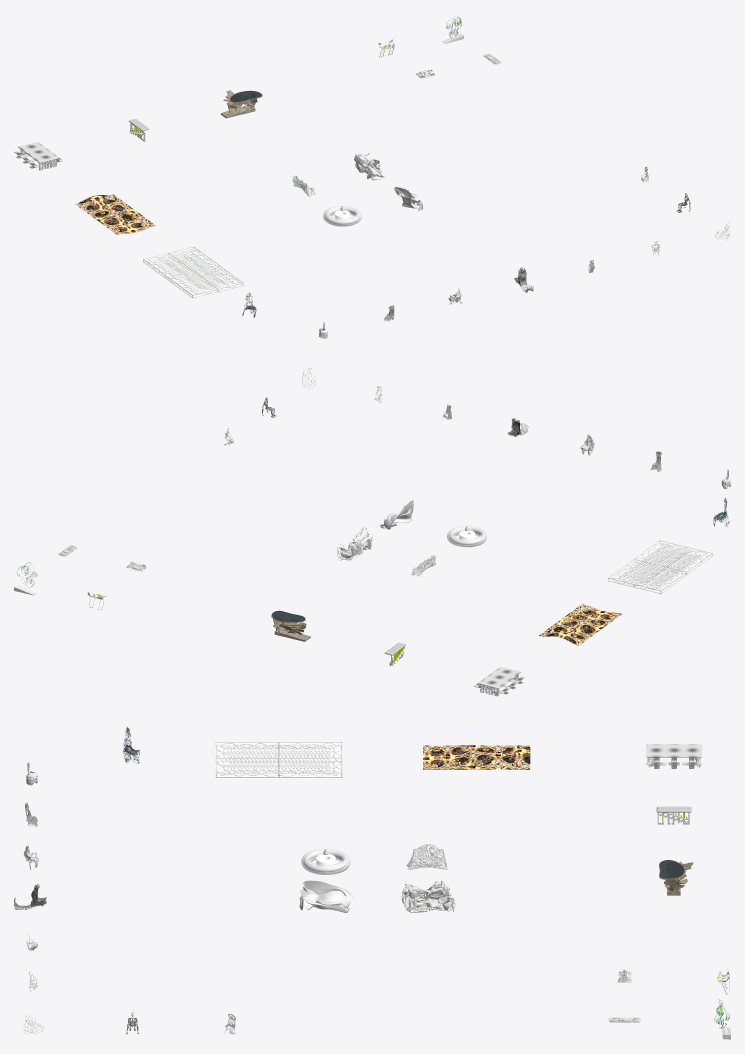
3 renders of one model, top to bottom at view 1: azimuth 30°, elevation 25°; view 2: azimuth 150°, elevation 25°; view 3: azimuth 270°, elevation 25°, orthographic. The views are drawn at different scales.
Parts seen in each view (by area): view 1: 4.003, spooky-throne-carpet, BoardROOMTABLE- WHT, Mesh_3.002, Cone.002, Merged Objects 2.003; view 2: 4.003, spooky-throne-carpet, BoardROOMTABLE- WHT, Mesh_3.002, Cone.002, Merged Objects 2.003; view 3: 4.003, spooky-throne-carpet, Merged Objects.008, Merged Objects 2.003, BoardROOMTABLE- WHT, Cone.002, Mesh_3.002, Mesh_2.007, Box.003.
Part boxes in pixels (box(x1,y1,x2,y2)): 4.003: box(143, 246, 243, 298); spooky-throne-carpet: box(75, 194, 155, 234); BoardROOMTABLE- WHT: box(14, 142, 63, 170); Mesh_3.002: box(221, 90, 262, 118); Cone.002: box(323, 206, 361, 226); Merged Objects 2.003: box(354, 153, 384, 180); 4.003: box(608, 540, 712, 593); spooky-throne-carpet: box(539, 604, 622, 645); BoardROOMTABLE- WHT: box(474, 666, 525, 696); Mesh_3.002: box(271, 610, 310, 641); Cone.002: box(447, 525, 486, 547); Merged Objects 2.003: box(337, 526, 372, 560); 4.003: box(215, 741, 342, 777); spooky-throne-carpet: box(423, 745, 530, 769); Merged Objects.008: box(299, 880, 352, 912); Merged Objects 2.003: box(401, 880, 456, 912); BoardROOMTABLE- WHT: box(646, 744, 702, 768); Cone.002: box(301, 848, 350, 874); Mesh_3.002: box(659, 860, 693, 895); Mesh_2.007: box(407, 844, 448, 869); Box.003: box(656, 806, 691, 824).
Size of the model in its own units: 37.94 by 2.1 by 39.18.
65 materials, 22 textured.
